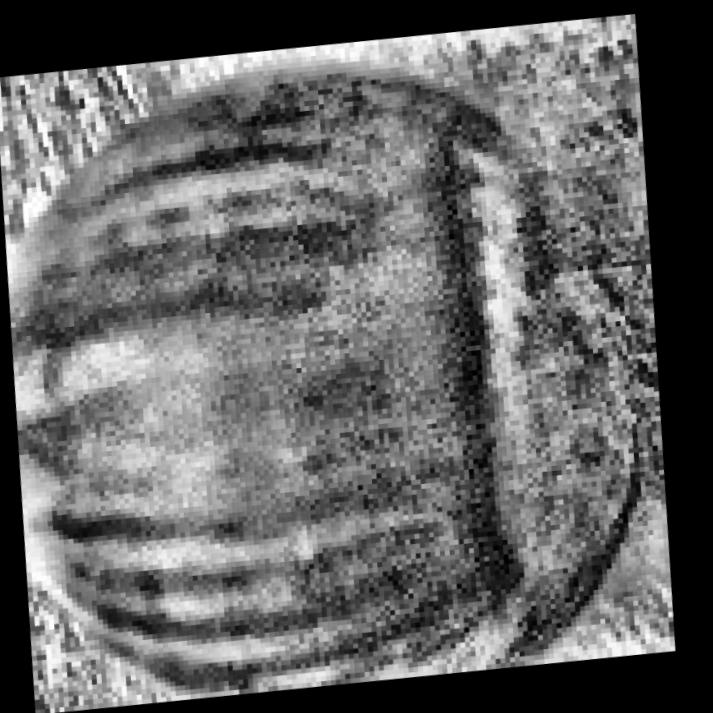qualityHazelnut: (0, 5, 713, 713)
